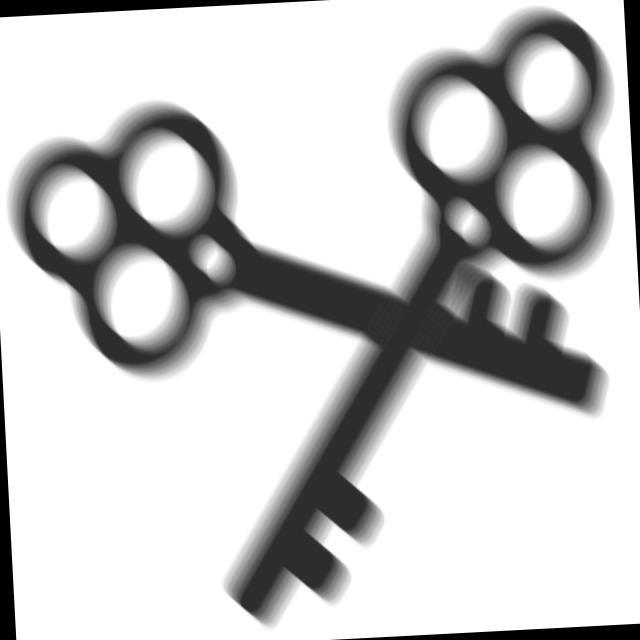key: (190, 1, 640, 633), (1, 69, 622, 464)
